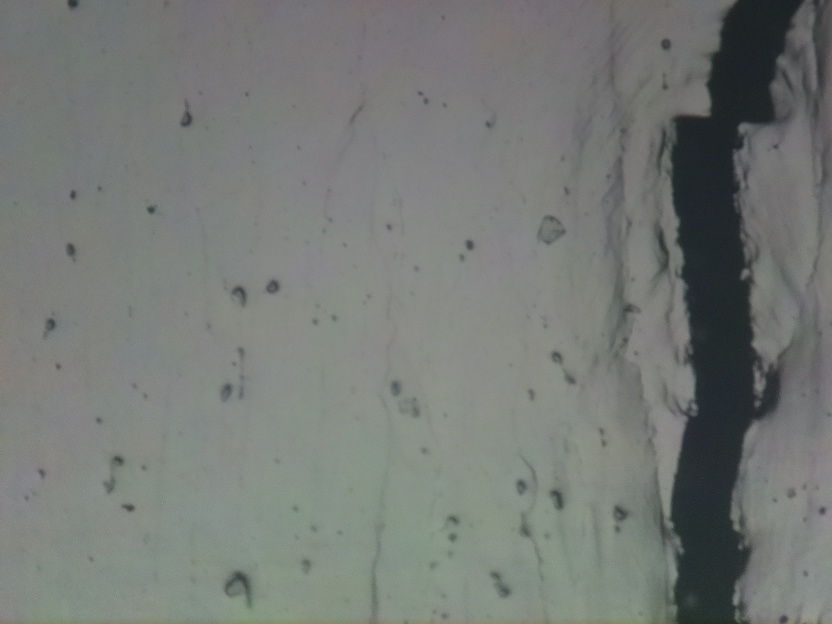crack: (677, 0, 802, 621)
